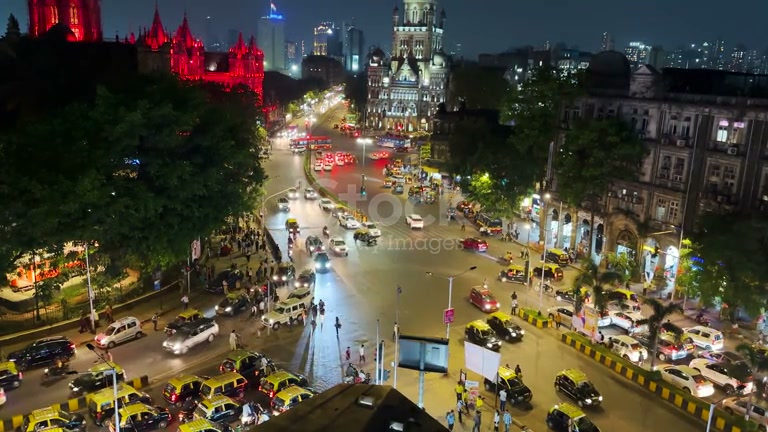car: (9, 337, 77, 371), (161, 316, 219, 355), (554, 367, 604, 409), (655, 365, 716, 399), (689, 360, 748, 395), (68, 364, 124, 397), (207, 401, 267, 430), (545, 402, 601, 432), (94, 316, 144, 349), (486, 313, 525, 342), (467, 285, 500, 313), (216, 294, 253, 317), (0, 362, 23, 392), (353, 224, 381, 242), (499, 267, 527, 284), (461, 238, 488, 253), (328, 238, 347, 256), (406, 213, 425, 229)
pedestrian: (472, 408, 482, 432), (510, 291, 519, 315)
